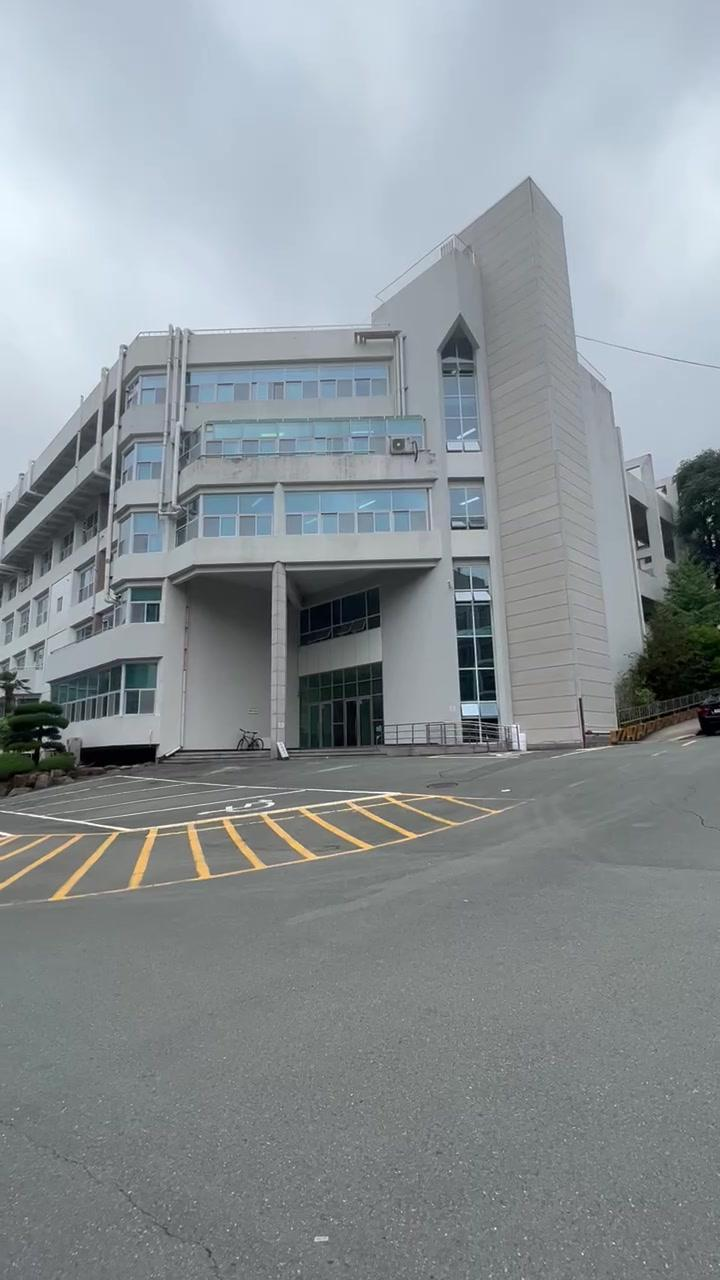building: (34, 208, 632, 752)
